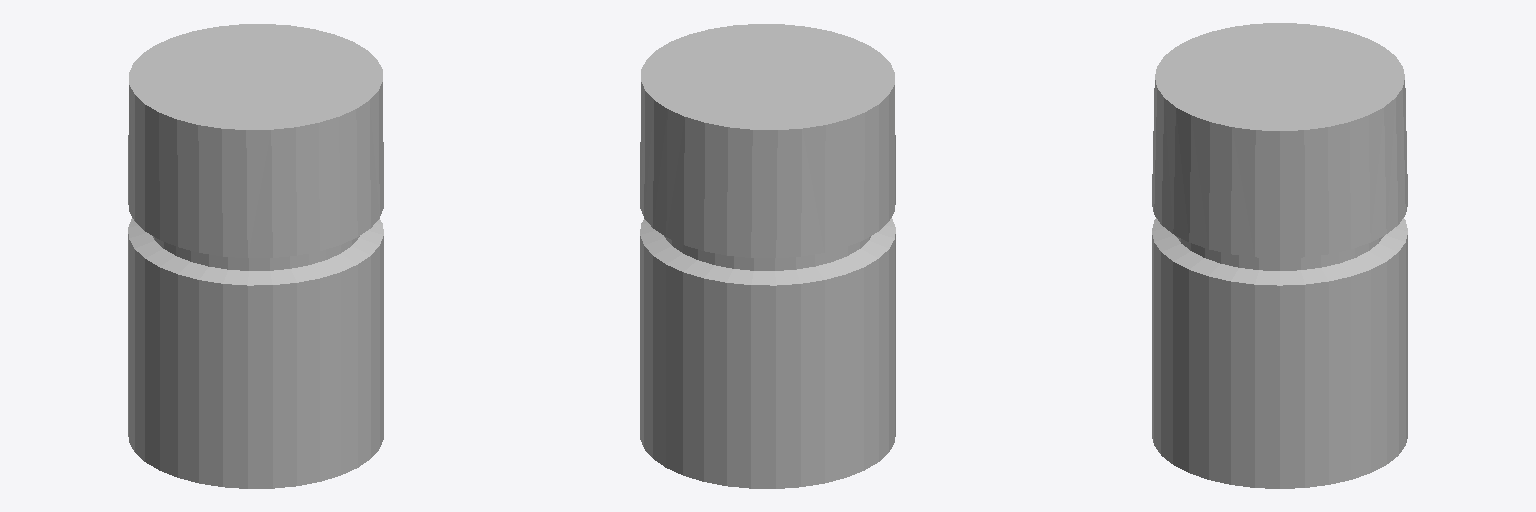
File: Light_Round_Short_Solid.obj
The picture shows the model from 3 angles: view 1: azimuth 30°, elevation 25°; view 2: azimuth 150°, elevation 25°; view 3: azimuth 270°, elevation 25°; orthographic projection.
Visible parts, largest first — view 1: Light_Round_Short_Solid; view 2: Light_Round_Short_Solid; view 3: Light_Round_Short_Solid.
Part boxes in pixels (x1,y1,x2,y2): Light_Round_Short_Solid: (128,24,383,488); Light_Round_Short_Solid: (640,24,895,488); Light_Round_Short_Solid: (1152,23,1407,488).
Size of the model in its own units: 0.65 by 1 by 0.65.